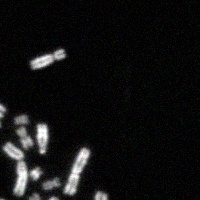chromosome: (2, 141, 27, 195), (63, 147, 91, 195), (30, 48, 67, 70), (36, 123, 49, 155), (17, 126, 32, 149), (42, 177, 59, 190), (90, 189, 108, 200), (13, 113, 28, 126), (29, 167, 42, 181), (0, 101, 6, 130), (28, 193, 43, 200), (38, 196, 59, 200), (0, 198, 5, 200)
